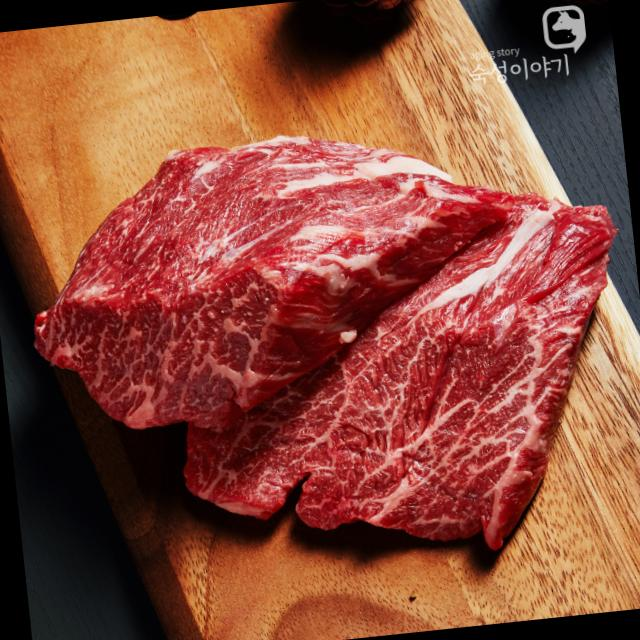beef: (274, 213, 582, 537), (112, 144, 419, 367)
